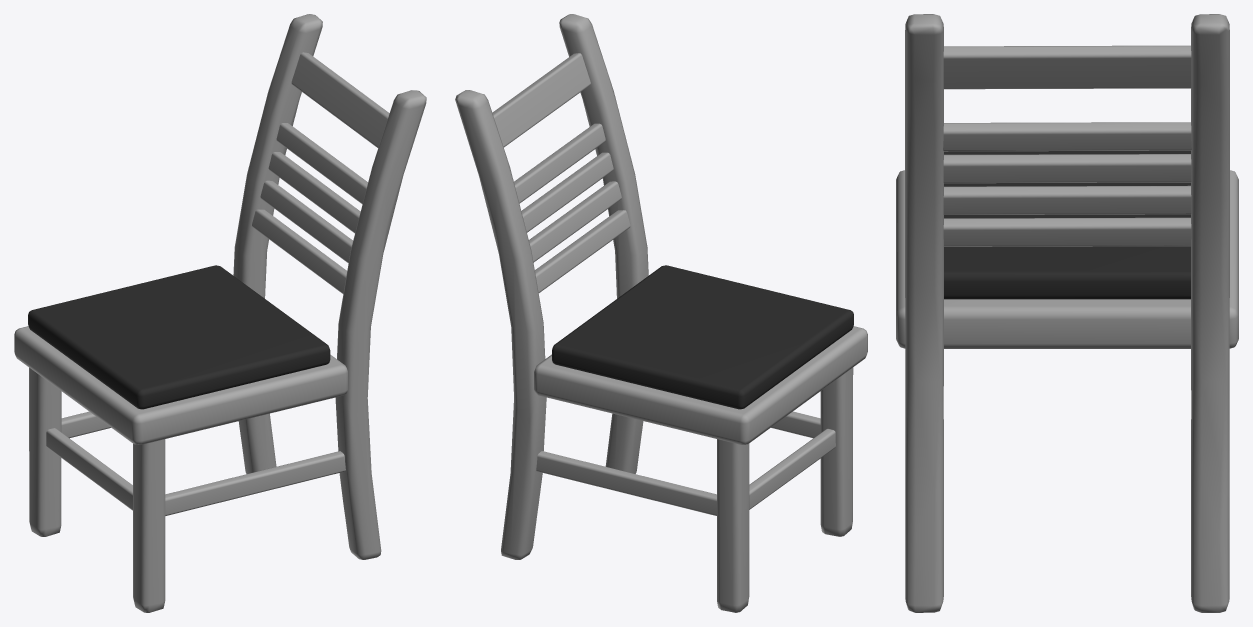
The model's file is chair_01_white.fbx.
The picture shows the model from 3 angles, left to right: view 1: azimuth 30°, elevation 25°; view 2: azimuth 150°, elevation 25°; view 3: azimuth 270°, elevation 25°; orthographic projection. The views are drawn at different scales.
Parts seen in each view (by area): view 1: chair_01_white; view 2: chair_01_white; view 3: chair_01_white.
Part boxes in pixels (x1,y1,x2,y2): chair_01_white: (14, 14, 426, 612); chair_01_white: (455, 14, 867, 612); chair_01_white: (896, 14, 1238, 612).
Bounding box in the file's own units: 73.08 × 106 × 53.
2 materials, 2 textured.
